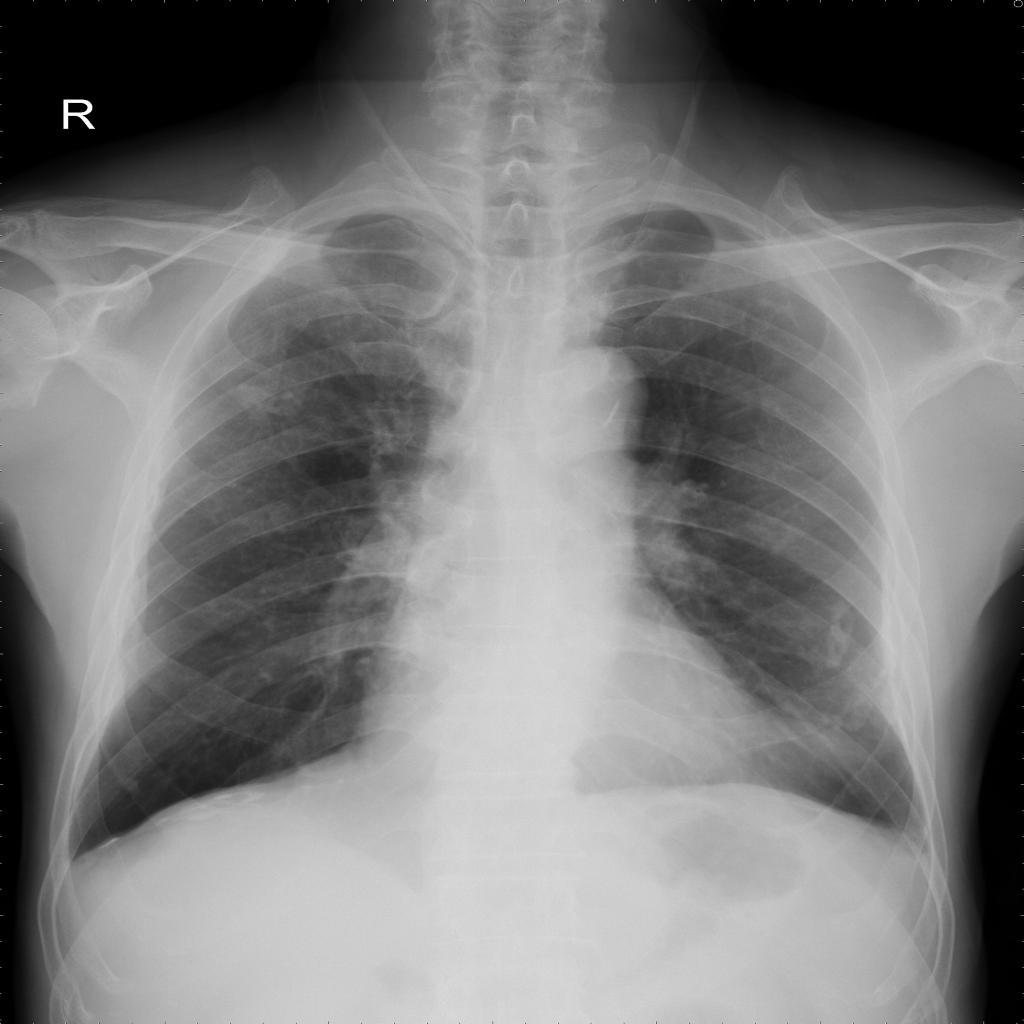Nodule: (224, 384, 279, 422)
